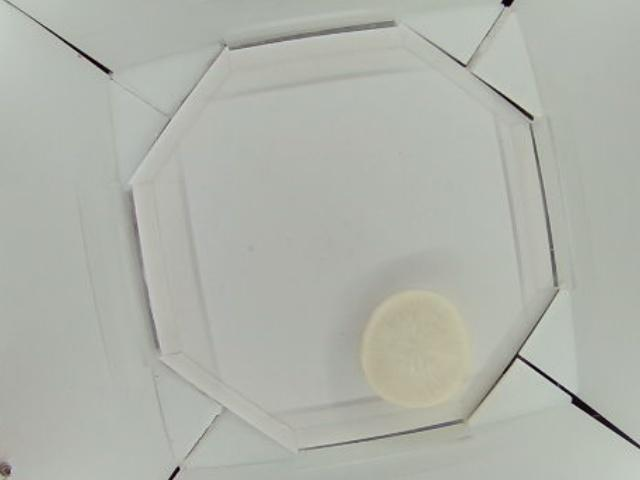Mooli: (358, 291, 474, 406)
